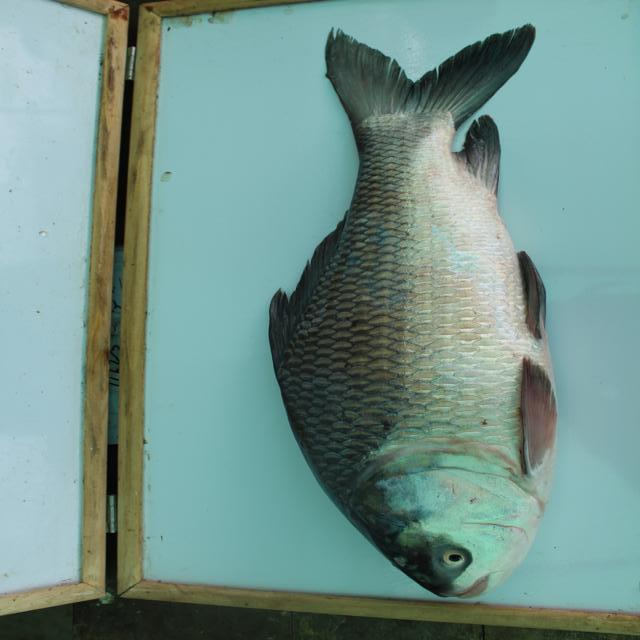Catla: (263, 18, 613, 597)
